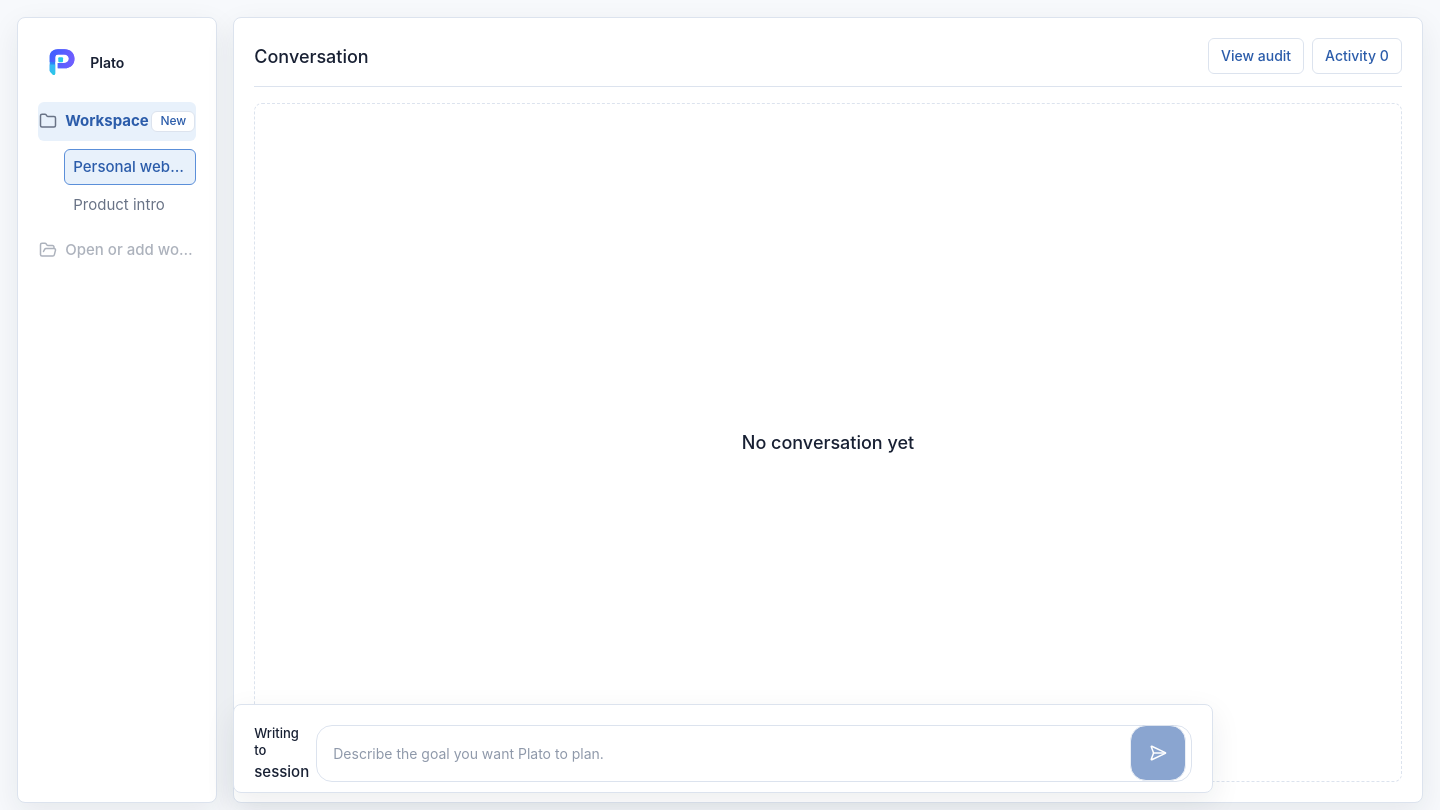
Test: MainPageWorkbench layout › opens session activity in the detail column when detail is otherwise hidden
The image size is (1440, 810).
Click the button "Activity 0".
click(1357, 56)  # box 1312,38 -> 1402,74
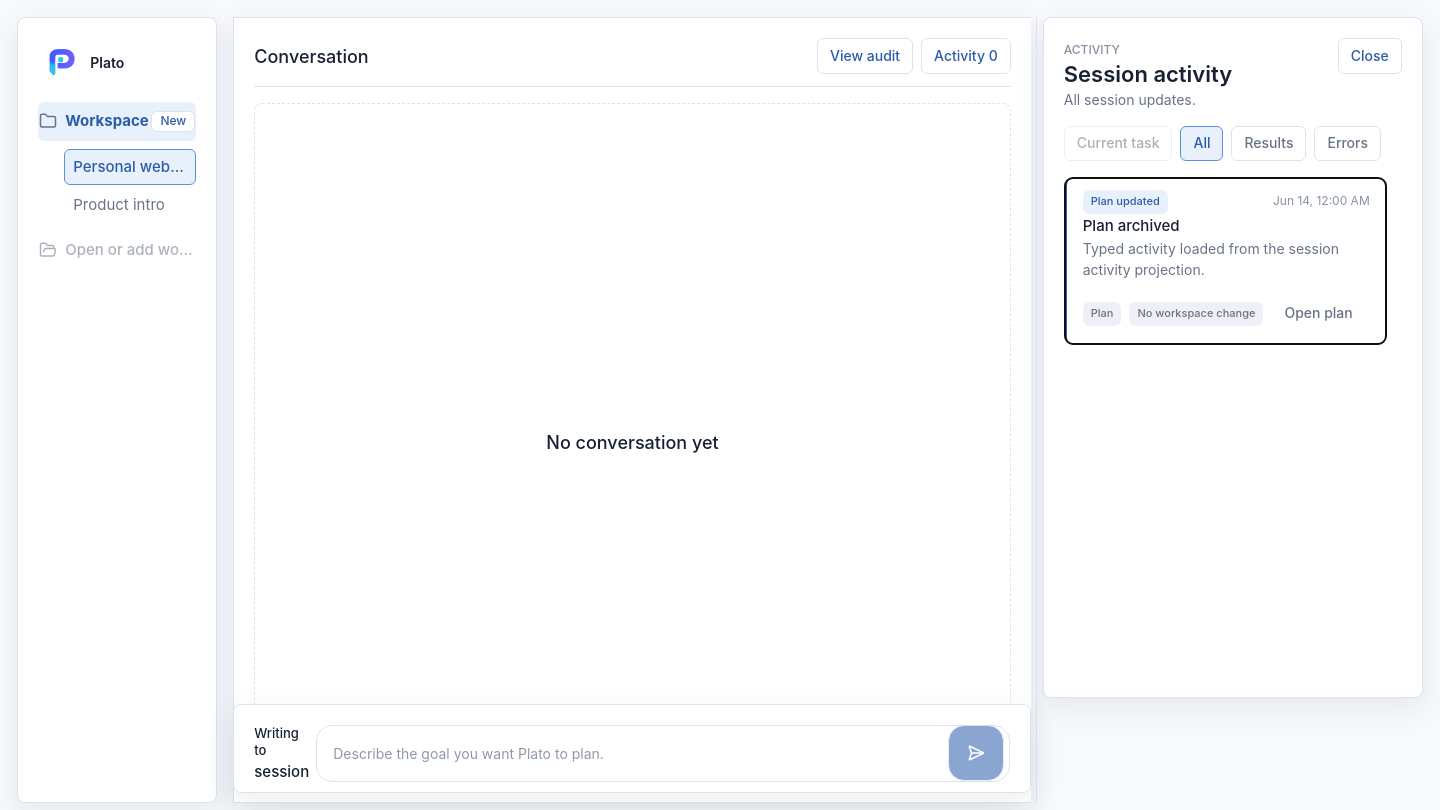
Expected: the element labelled "Conversation" is shown, 233,17 -> 1031,803
Now the button named "Resize details panel" is shown, box 1031,17 -> 1043,803
Now the dialog labelled "Session activity" is shown, box 1043,17 -> 1423,698
